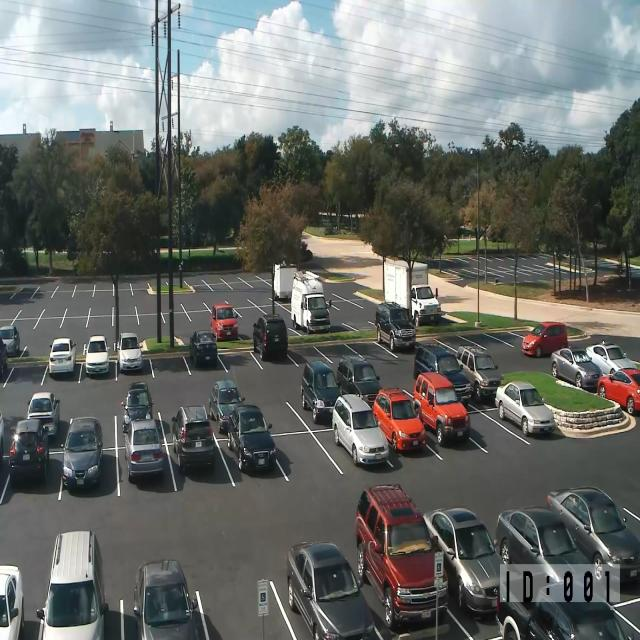car: (355, 483, 449, 630), (495, 506, 605, 605), (546, 485, 640, 584), (286, 540, 375, 640), (423, 507, 503, 616), (36, 530, 109, 639), (495, 588, 638, 640), (133, 558, 210, 640), (413, 372, 471, 446), (332, 393, 388, 466), (413, 342, 472, 403), (373, 387, 426, 453), (494, 381, 556, 436), (227, 404, 276, 472), (60, 416, 103, 489), (171, 405, 215, 473), (456, 344, 502, 402), (301, 360, 342, 424), (124, 417, 164, 482), (9, 418, 49, 482), (550, 346, 604, 391), (337, 354, 382, 408), (375, 300, 416, 352), (596, 368, 640, 415), (208, 379, 245, 433), (586, 340, 640, 376), (0, 564, 24, 640), (121, 381, 154, 434), (521, 321, 568, 358), (252, 314, 288, 361), (26, 391, 60, 439), (410, 283, 441, 327), (610, 596, 640, 640), (83, 335, 110, 376), (210, 303, 238, 342), (116, 332, 143, 372), (189, 330, 217, 368), (49, 337, 76, 375), (0, 324, 20, 356), (0, 337, 7, 378), (0, 410, 4, 465), (300, 239, 307, 252)
